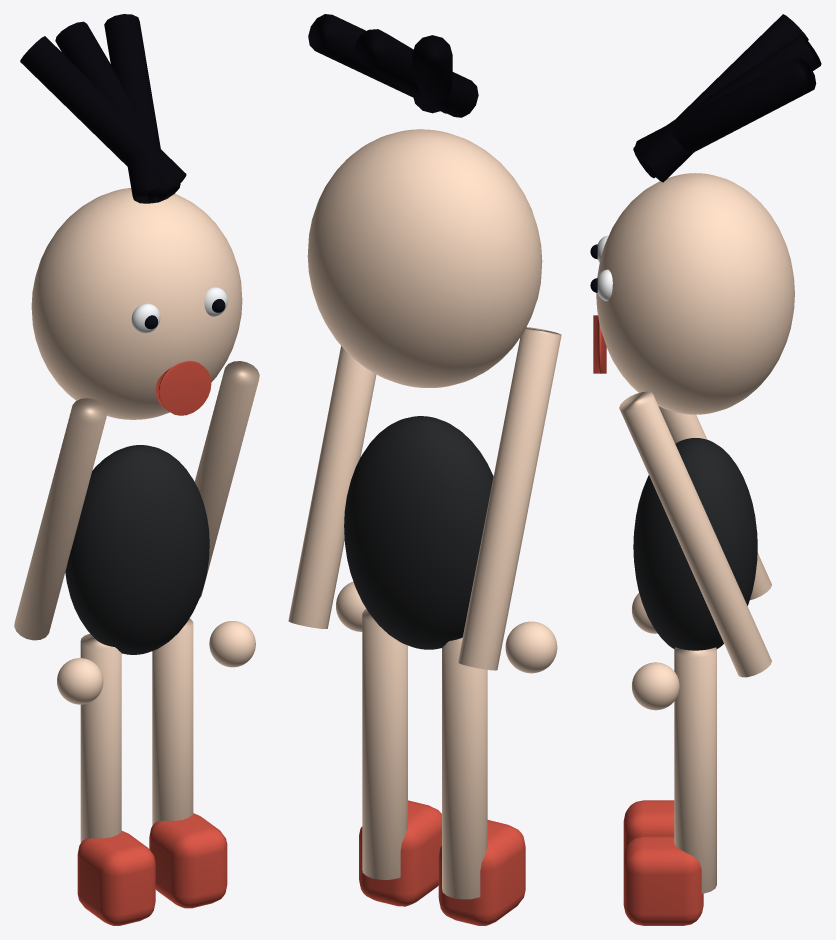
Rendered from p2s_video_so_ong_atom_60th_figure.proxy.glb.
The picture shows the model from 3 angles, left to right: view 1: azimuth 30°, elevation 25°; view 2: azimuth 150°, elevation 25°; view 3: azimuth 270°, elevation 25°; orthographic projection. The views are drawn at different scales.
Parts seen in each view (by area): view 1: atom_head, atom_body, atom_arm, atom_leg.001, atom_leg, atom_boot, atom_boot.001, atom_arm.001, atom_hair_spike.002, atom_hair_spike, atom_hair_spike.001, atom_mouth_smile (+3 smaller); view 2: atom_head, atom_body, atom_arm, atom_leg.001, atom_leg, atom_arm.001, atom_boot, atom_boot.001, atom_hair_spike, atom_hair_spike.001, atom_hair_spike.002, atom_hand (+1 smaller); view 3: atom_head, atom_body, atom_arm.001, atom_leg.001, atom_boot.001, atom_hair_spike, atom_hair_spike.002, atom_hair_spike.001, atom_boot, atom_hand.001, atom_arm, atom_mouth_smile (+1 smaller).
Boxes of the visible parts, x1=… form: atom_head: x1=31, y1=188, x2=242, y2=419; atom_body: x1=65, y1=445, x2=209, y2=654; atom_arm: x1=14, y1=398, x2=107, y2=640; atom_leg.001: x1=152, y1=618, x2=193, y2=825; atom_leg: x1=80, y1=633, x2=121, y2=842; atom_boot: x1=77, y1=831, x2=155, y2=925; atom_boot.001: x1=149, y1=813, x2=227, y2=908; atom_arm.001: x1=194, y1=361, x2=259, y2=597; atom_hair_spike.002: x1=20, y1=36, x2=186, y2=197; atom_hair_spike: x1=104, y1=14, x2=167, y2=203; atom_hair_spike.001: x1=55, y1=21, x2=180, y2=203; atom_mouth_smile: x1=155, y1=360, x2=211, y2=415; atom_head: x1=307, y1=129, x2=542, y2=387; atom_body: x1=344, y1=416, x2=493, y2=649; atom_arm: x1=458, y1=327, x2=561, y2=670; atom_leg.001: x1=362, y1=609, x2=407, y2=879; atom_leg: x1=442, y1=637, x2=487, y2=899; atom_arm.001: x1=288, y1=346, x2=376, y2=628; atom_boot: x1=438, y1=820, x2=525, y2=925; atom_boot.001: x1=359, y1=800, x2=441, y2=906; atom_hair_spike: x1=308, y1=14, x2=478, y2=117; atom_hair_spike.001: x1=355, y1=29, x2=445, y2=113; atom_hair_spike.002: x1=412, y1=35, x2=452, y2=113; atom_hand: x1=505, y1=621, x2=557, y2=673; atom_head: x1=596, y1=173, x2=794, y2=414; atom_body: x1=633, y1=438, x2=757, y2=650; atom_arm.001: x1=619, y1=391, x2=771, y2=677; atom_leg.001: x1=674, y1=647, x2=716, y2=893; atom_boot.001: x1=623, y1=836, x2=703, y2=925; atom_hair_spike: x1=635, y1=57, x2=816, y2=152; atom_hair_spike.002: x1=638, y1=14, x2=808, y2=182; atom_hair_spike.001: x1=633, y1=35, x2=821, y2=178; atom_boot: x1=623, y1=800, x2=674, y2=855; atom_hand.001: x1=631, y1=662, x2=679, y2=710; atom_arm: x1=658, y1=406, x2=771, y2=599; atom_mouth_smile: x1=593, y1=315, x2=606, y2=373.
Bounding box in the file's own units: 0.0688 × 0.2855 × 0.0695.
